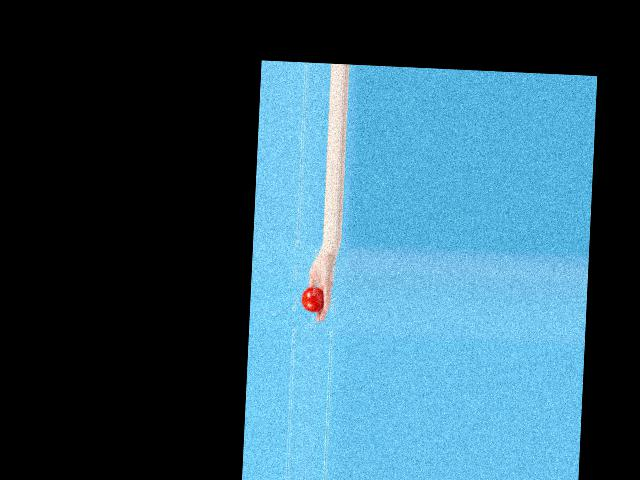tomato: (301, 286, 324, 312)
